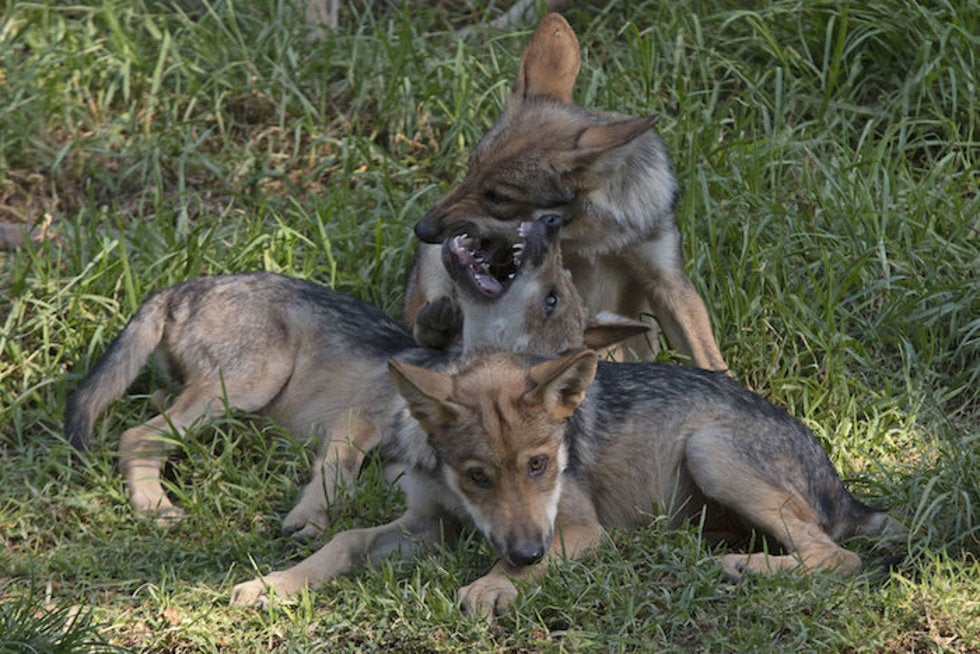Lobo: (375, 341, 893, 607), (393, 22, 704, 226), (409, 207, 615, 379)
